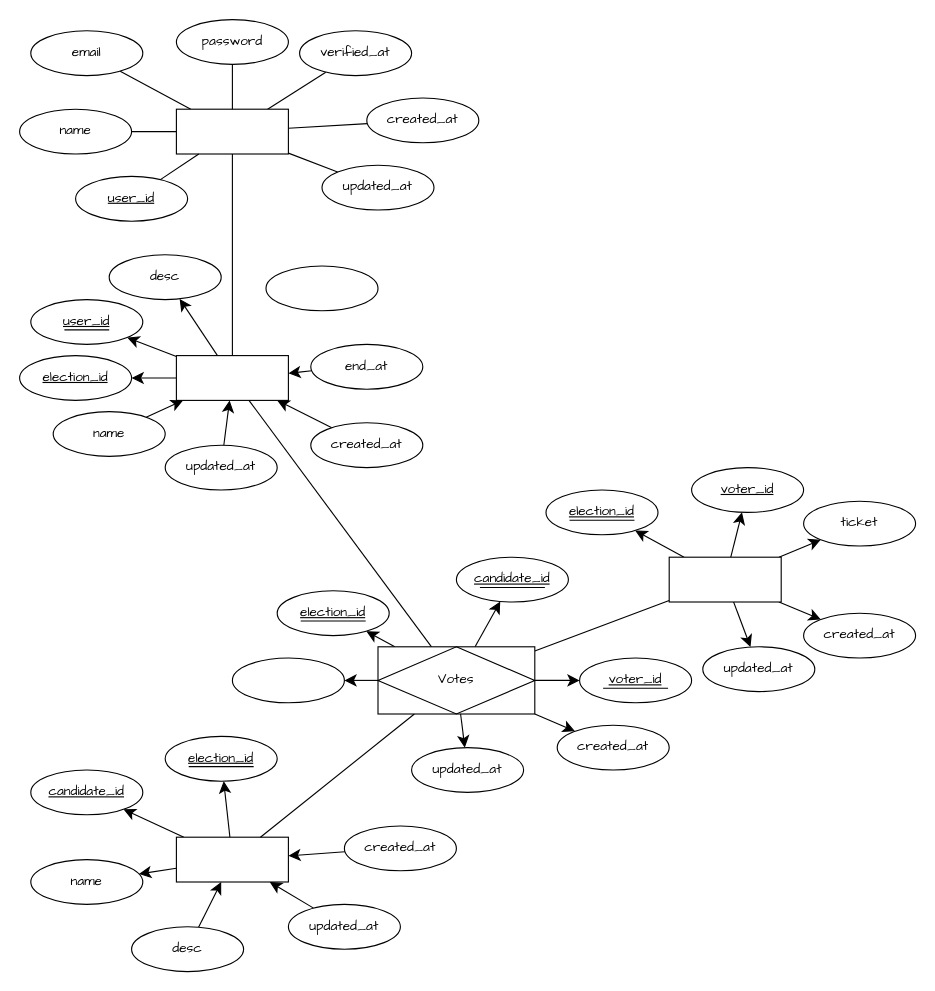
Some shapes in this 935 by 991 pixel diagram are drawn without their labels. Each missing label, with the box of its shape:
Candidates: (175, 836, 288, 882)
Elections: (175, 354, 288, 400)
start_at: (265, 265, 378, 311)
Users: (175, 108, 288, 154)
vote_id: (231, 657, 344, 703)
Voters: (668, 556, 781, 602)
